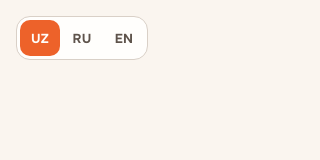
AuthLangSwitch › marks the current language and switches + persists on click
The width and height of the screenshot is (320, 160).
Step 1. Click the button with aria-label "Русский" → (82, 38), box [62, 20, 102, 56]
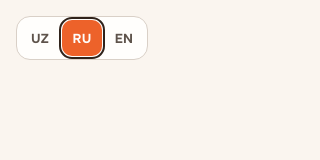
Check: the element named "Язык интерфейса" is shown, box [16, 16, 148, 60]
